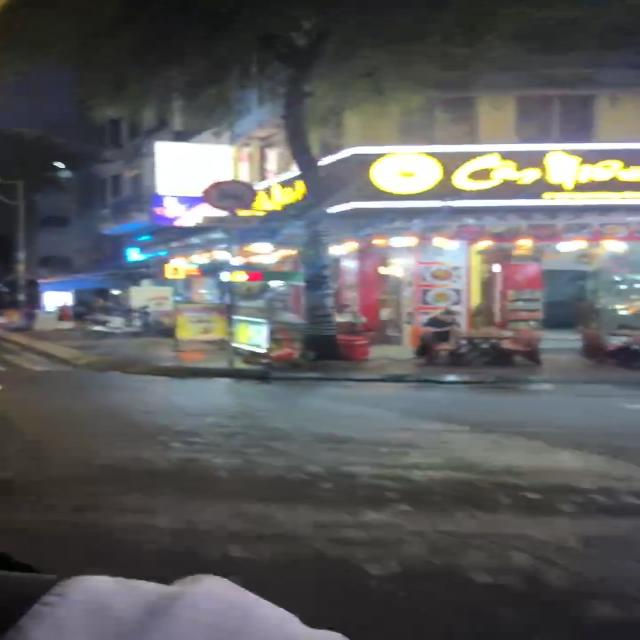Bien bao cam xe oto: (198, 176, 271, 214)
